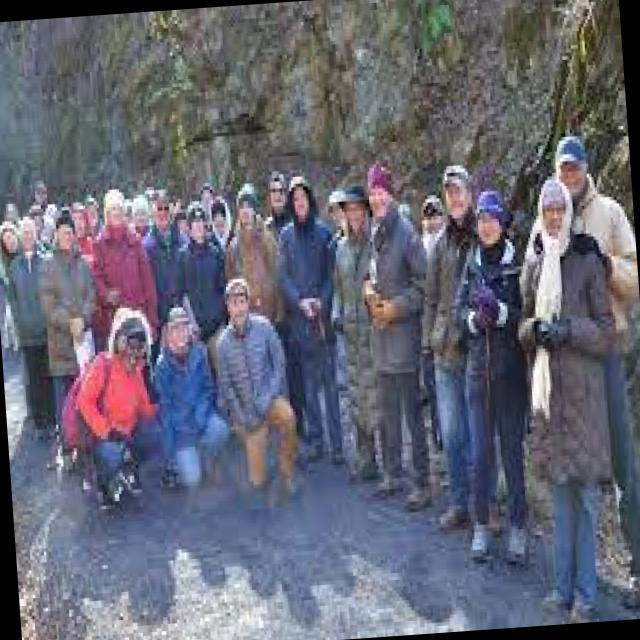Jacket: (510, 238, 634, 482), (537, 186, 640, 355), (454, 235, 531, 416), (357, 213, 432, 389), (414, 215, 490, 379), (272, 217, 344, 376), (330, 224, 386, 428), (31, 246, 108, 388), (88, 220, 164, 362), (76, 352, 164, 473), (163, 228, 245, 351), (213, 316, 292, 438), (148, 344, 226, 454), (223, 230, 284, 350), (139, 215, 191, 340)
